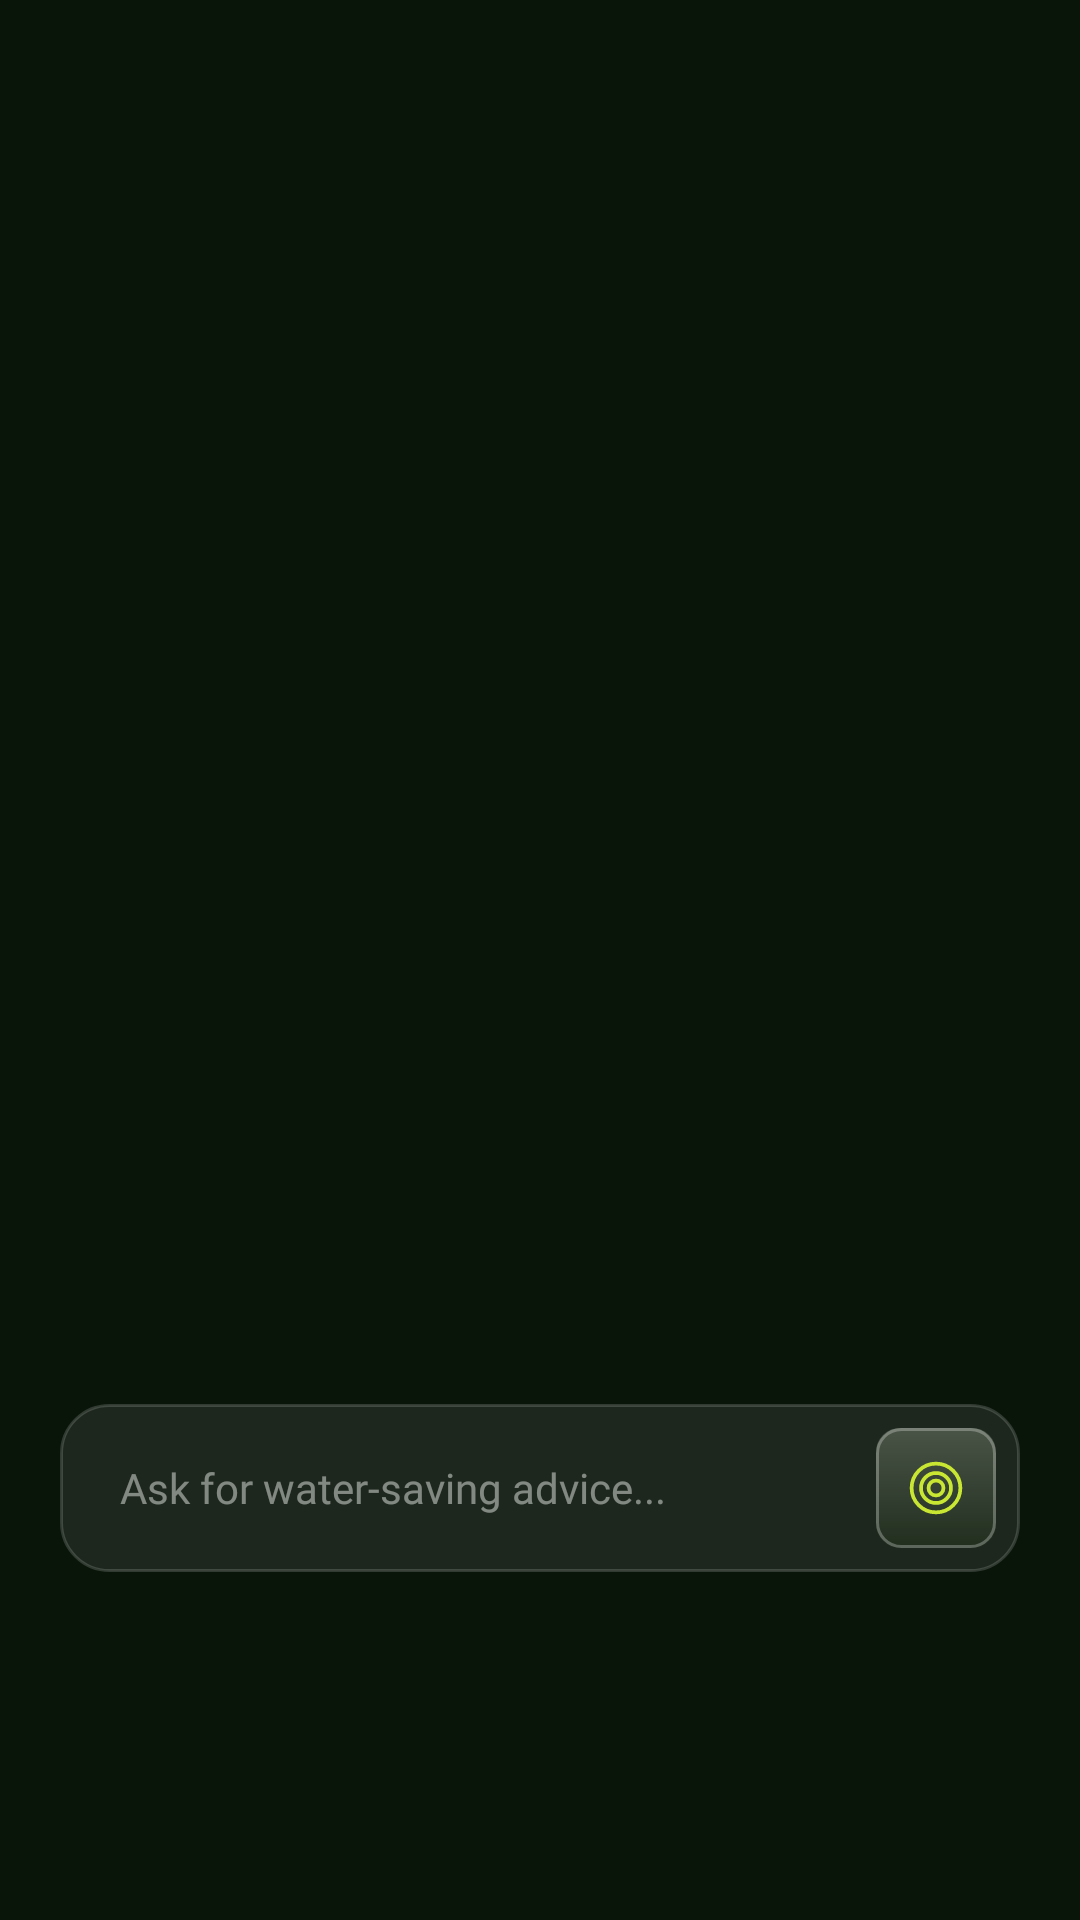

Icons on this 1080 x 1920 Android screen, each with its box as (x1, y1, x2, y2):
target: (876, 1428, 996, 1548)
